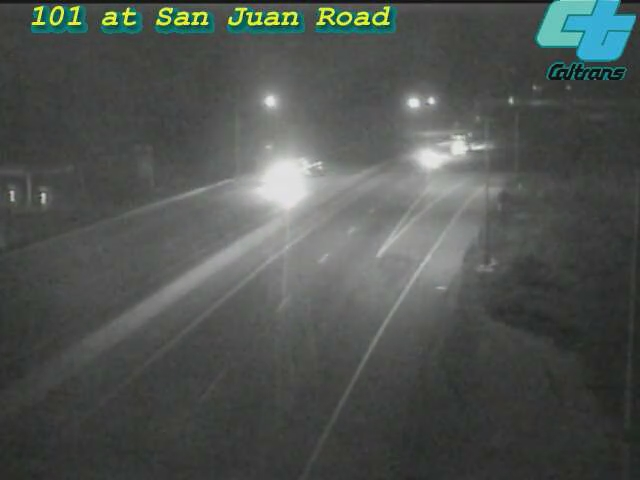vehicle: (248, 137, 328, 217), (432, 118, 482, 168), (409, 133, 459, 183)
